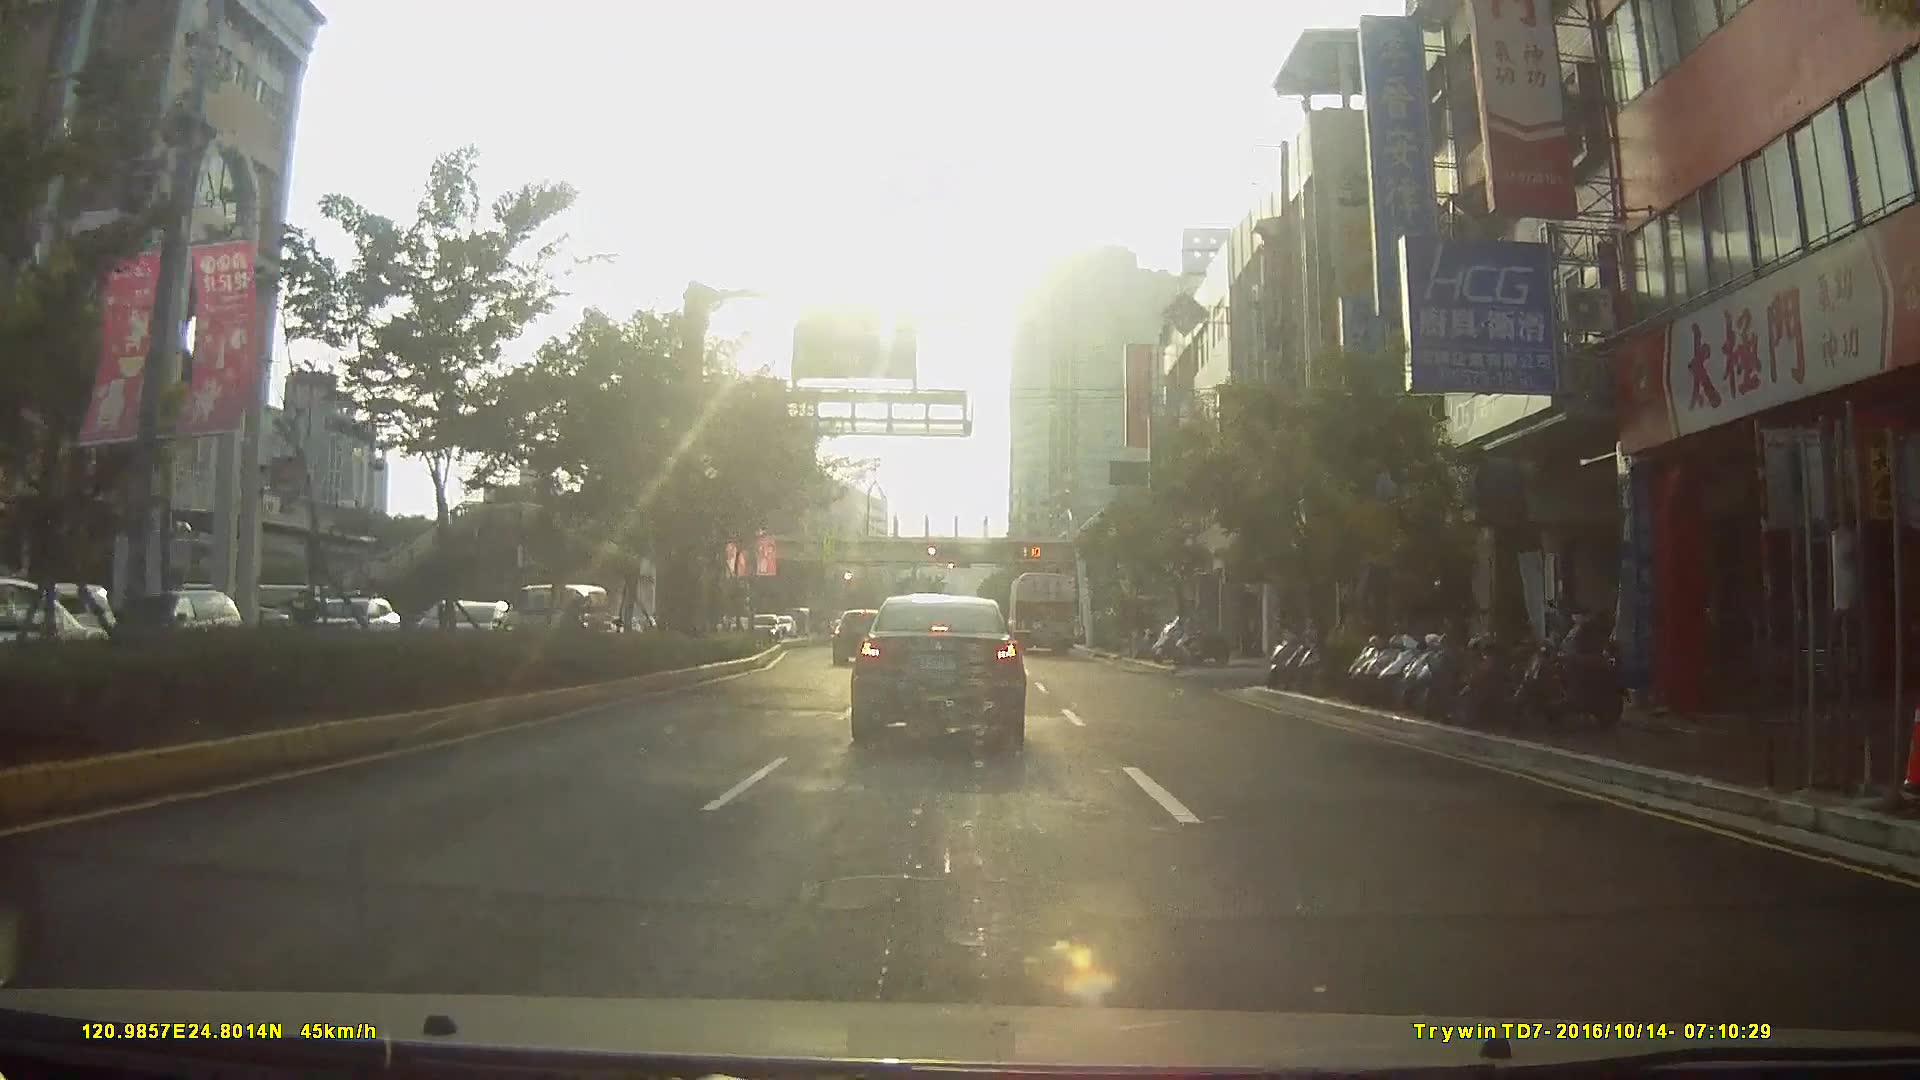vehicle: (849, 585, 1027, 744), (1, 584, 138, 702), (109, 585, 237, 658), (0, 579, 105, 659), (498, 583, 616, 651), (1005, 568, 1080, 655), (829, 607, 890, 665), (742, 615, 781, 645)
